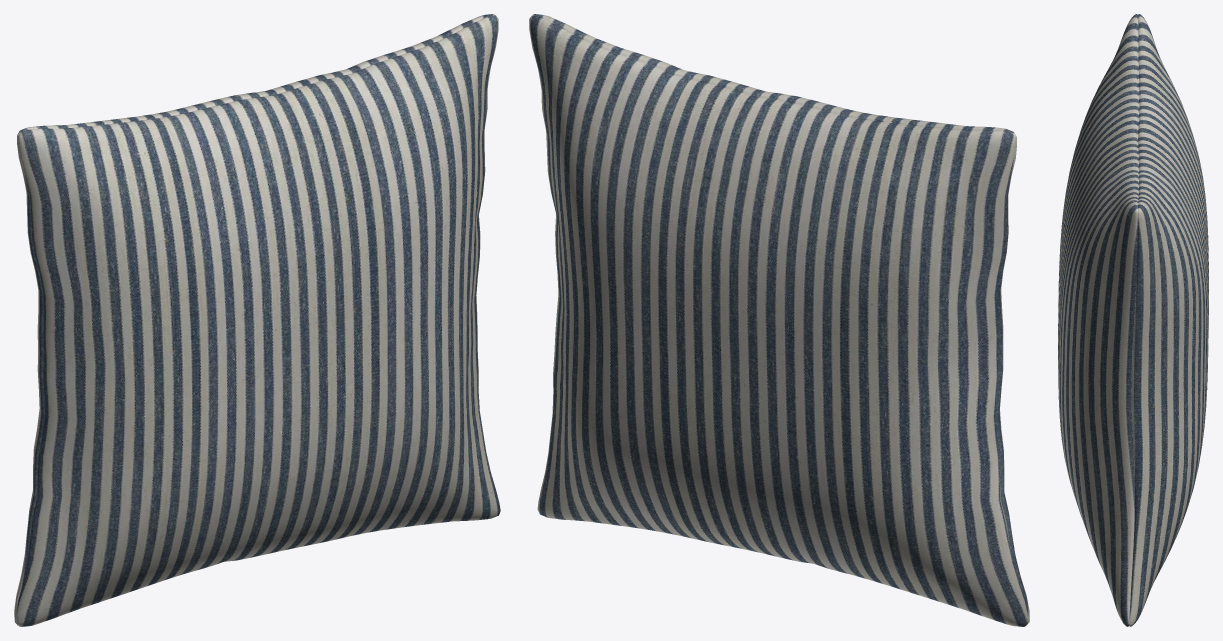
File: B07MBFDS2R.glb
The picture shows the model from 3 angles, left to right: view 1: azimuth 30°, elevation 25°; view 2: azimuth 150°, elevation 25°; view 3: azimuth 270°, elevation 25°; orthographic projection. The views are drawn at different scales.
Parts seen in each view (by area): view 1: RootNode; view 2: RootNode; view 3: RootNode.
Part boxes in pixels (bbox=[...]): RootNode: bbox=[14, 14, 500, 626]; RootNode: bbox=[529, 14, 1029, 626]; RootNode: bbox=[1058, 14, 1208, 626].
Size of the model in its own units: 0.5234 by 0.5104 by 0.1659.
1 material, 1 textured.
